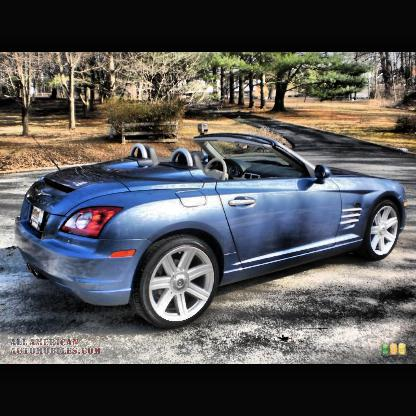Chrysler Crossfire Convertible 2008: (17, 135, 408, 330)
